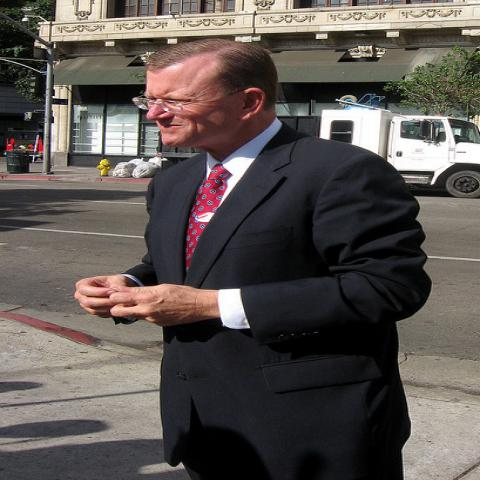truck: (152, 92, 479, 199)
